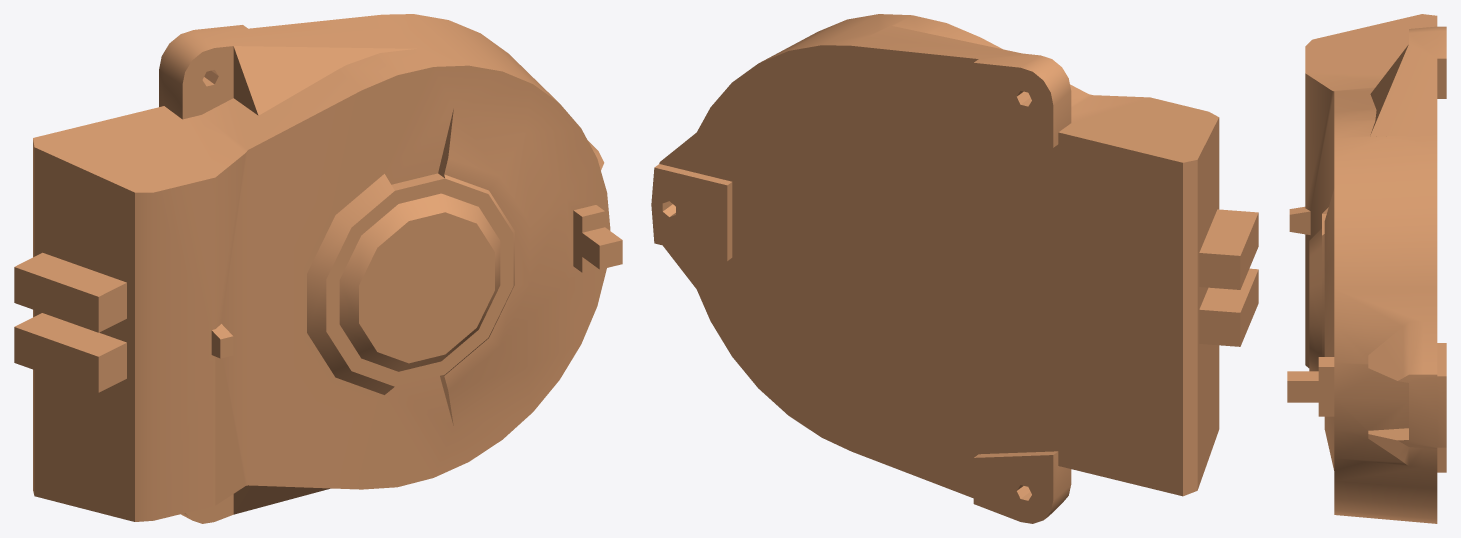
The picture shows the model from 3 angles, left to right: view 1: azimuth 30°, elevation 25°; view 2: azimuth 150°, elevation 25°; view 3: azimuth 270°, elevation 25°; orthographic projection. The views are drawn at different scales.
Visible parts, largest first — view 1: IRB2400_16_m2000_rev4_01-1; view 2: IRB2400_16_m2000_rev4_01-1; view 3: IRB2400_16_m2000_rev4_01-1.
Part boxes in pixels (bbox=[...]): IRB2400_16_m2000_rev4_01-1: bbox=[14, 14, 622, 523]; IRB2400_16_m2000_rev4_01-1: bbox=[651, 14, 1258, 523]; IRB2400_16_m2000_rev4_01-1: bbox=[1287, 14, 1446, 523].
Size of the model in its own units: 0.7788 by 0.5993 by 0.203.
